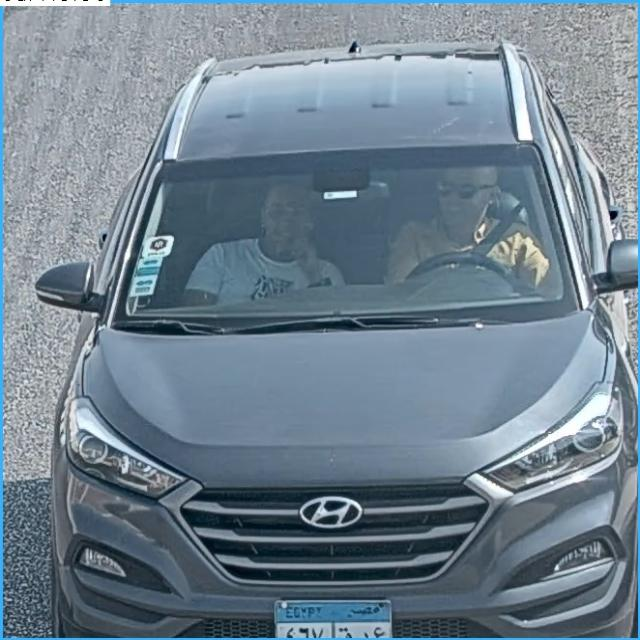windshield: (108, 154, 585, 314)
